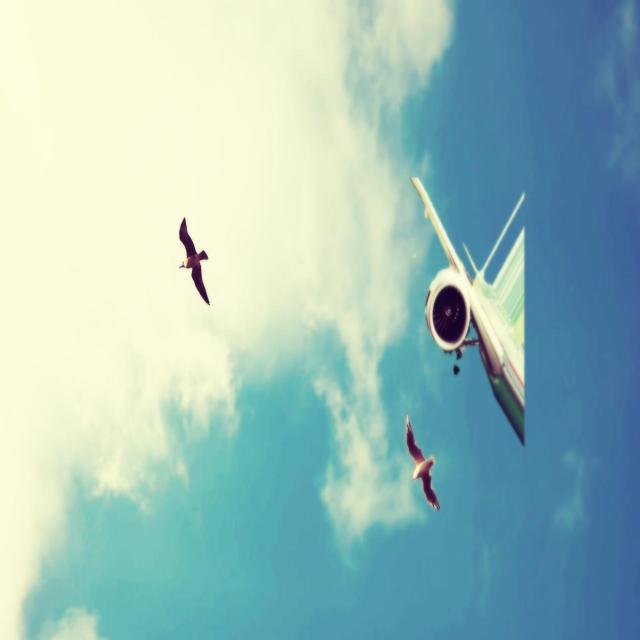airplane: (409, 174, 526, 446)
